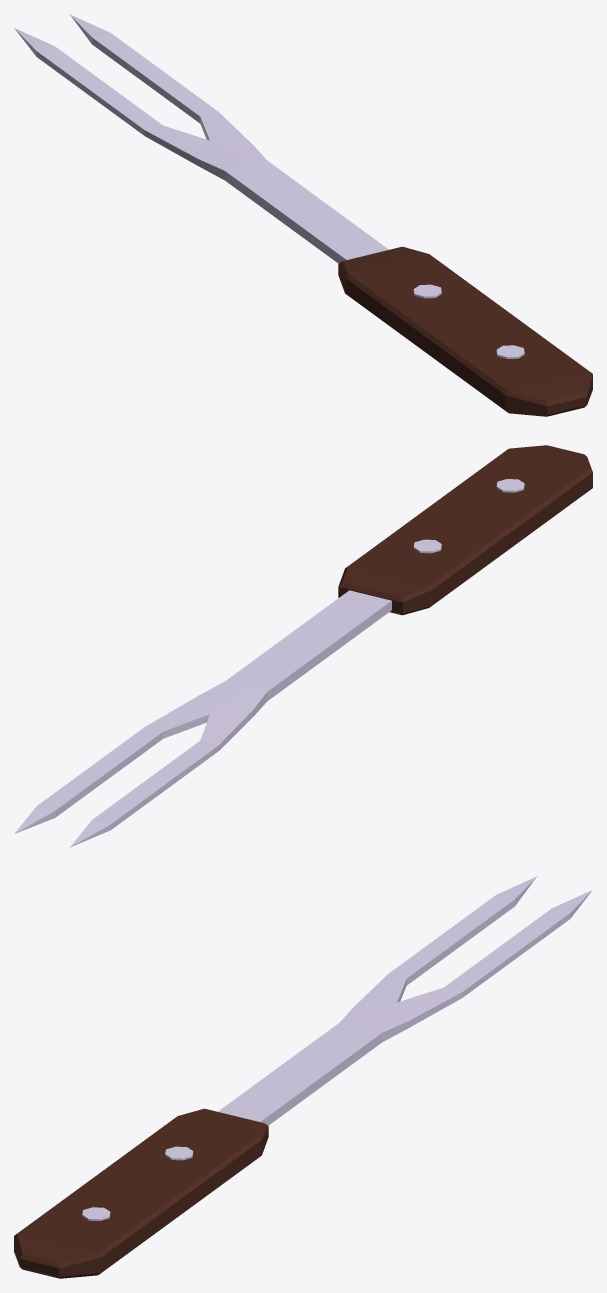
Rendered from throwingknives.fbx_Object.fbx.
3 views of the same model, one above another, from view 1: azimuth 30°, elevation 25°; view 2: azimuth 150°, elevation 25°; view 3: azimuth 330°, elevation 25° (orthographic).
Parts seen in each view (by area): view 1: Hilt, Blade; view 2: Hilt, Blade; view 3: Hilt, Blade.
Boxes of the visible parts, box(x1,y1,x2,y2) form: Hilt: box(338, 246, 592, 416); Blade: box(14, 14, 388, 263); Hilt: box(338, 445, 592, 615); Blade: box(14, 590, 391, 847); Hilt: box(14, 1108, 268, 1278); Blade: box(218, 876, 592, 1125).
Size of the model in its own units: 62.99 by 17.74 by 655.
